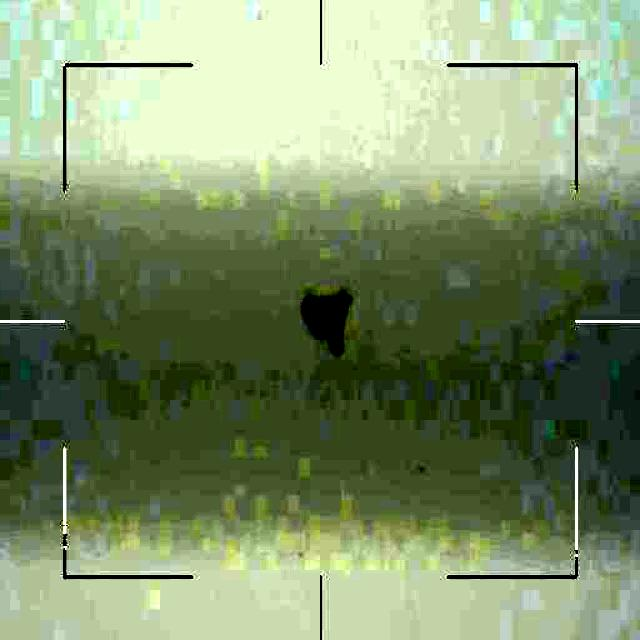bird: (292, 285, 360, 359)
